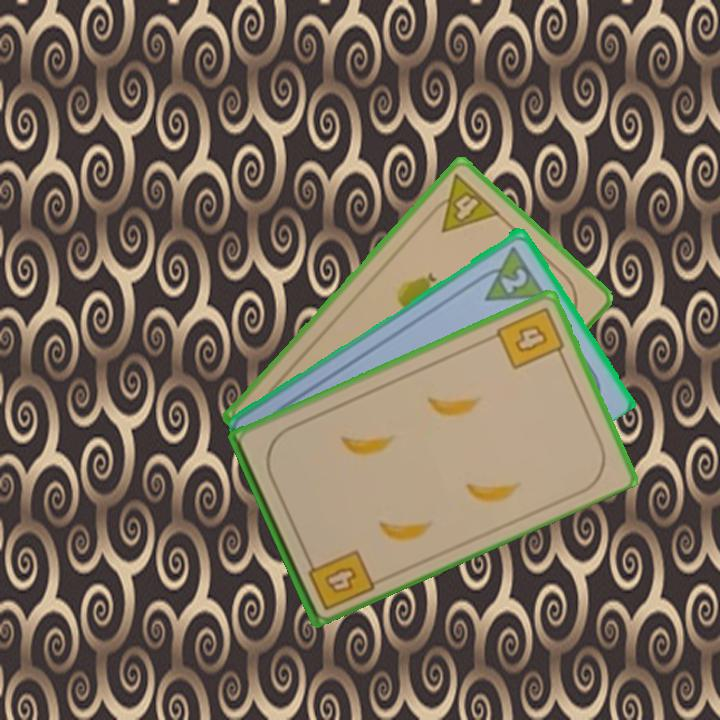2p: (470, 241, 548, 305)
4b: (492, 303, 568, 372), (302, 545, 377, 613)
4p: (422, 170, 503, 236)
